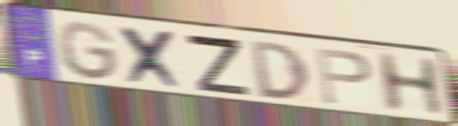D: (247, 38, 313, 102)
G: (56, 19, 122, 83)
H: (373, 50, 448, 117)
P: (313, 46, 374, 108)
X: (116, 24, 188, 93)
Z: (182, 32, 253, 98)
